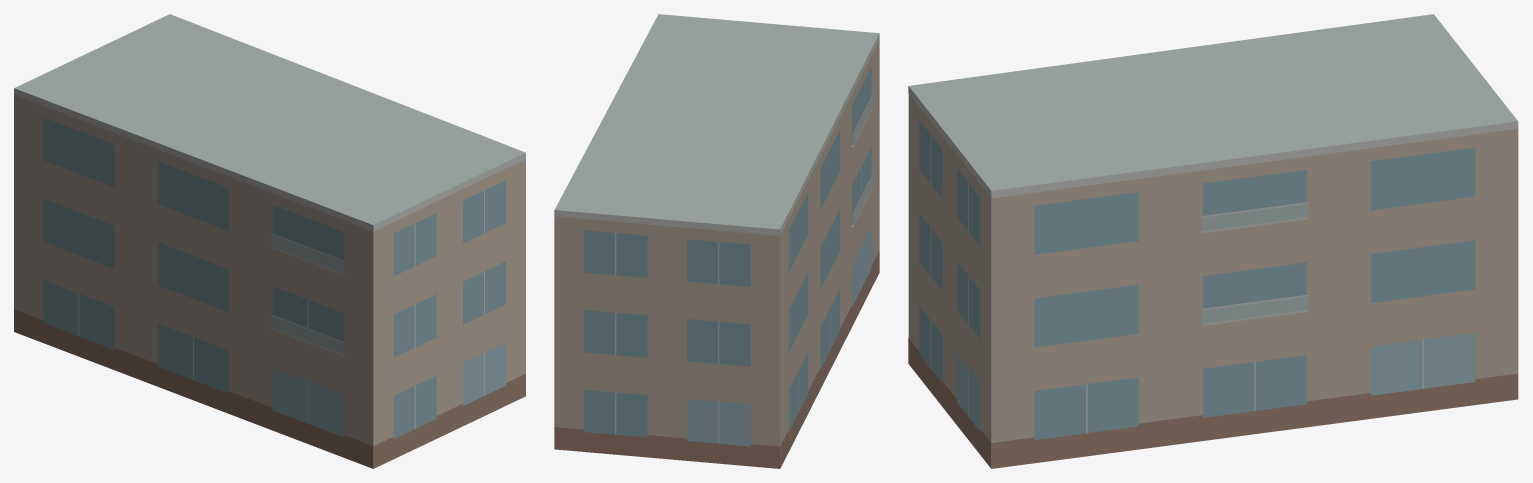
Rendered from survey-upis-32702134.glb.
The picture shows the model from 3 angles, left to right: view 1: azimuth 30°, elevation 25°; view 2: azimuth 150°, elevation 25°; view 3: azimuth 270°, elevation 25°; orthographic projection. The views are drawn at different scales.
Visible parts, largest first — view 1: survey-upis-32702134.tmp; view 2: survey-upis-32702134.tmp; view 3: survey-upis-32702134.tmp.
Part boxes in pixels (x1,y1,x2,y2): survey-upis-32702134.tmp: [14, 14, 525, 468]; survey-upis-32702134.tmp: [554, 14, 879, 468]; survey-upis-32702134.tmp: [908, 14, 1518, 468].
Bounding box in the file's own units: 12.5 × 9.15 × 18.2.
